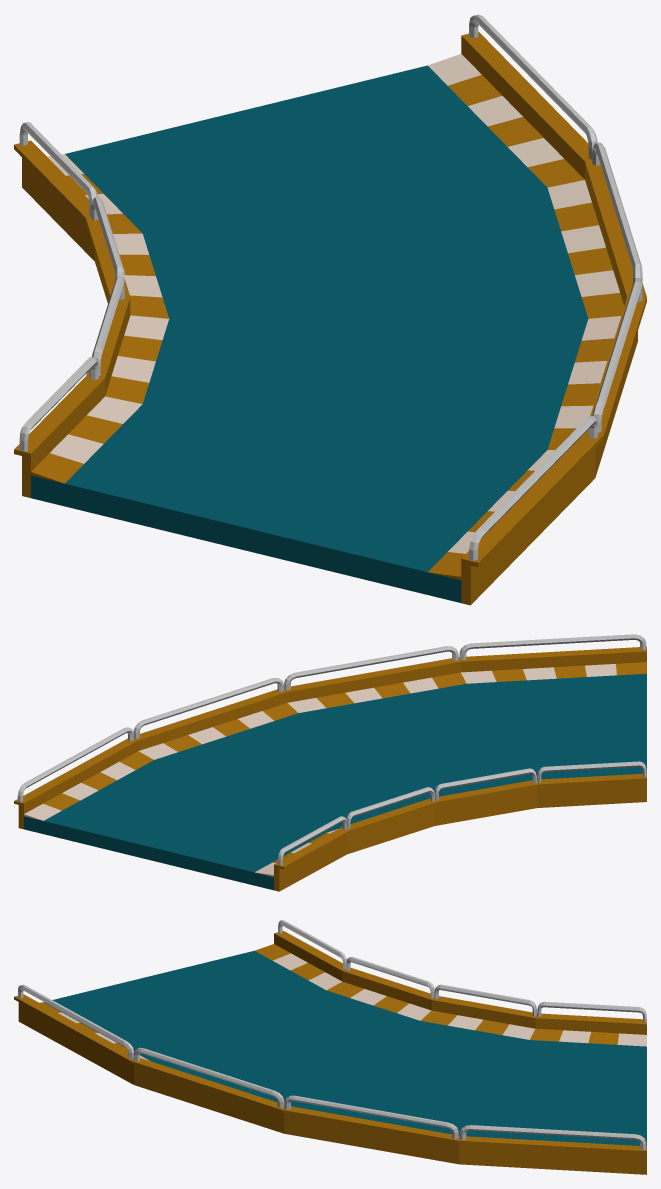
Rendered from curveRight-60_m.FBX.
3 views of the same model, one above another, from view 1: azimuth 30°, elevation 25°; view 2: azimuth 150°, elevation 25°; view 3: azimuth 270°, elevation 25° (orthographic). The views are drawn at different scales.
Visible parts, largest first — view 1: curveRight-60_m, wall_l, curbs_l, wall_r, curbs_r; view 2: curveRight-60_m, wall_l, wall_r, curbs_l; view 3: curveRight-60_m, wall_l, wall_r, curbs_r.
Boxes of the visible parts, <box> form: curveRight-60_m: <box>31,65,588,602</box>; wall_l: <box>461,14,646,605</box>; curbs_l: <box>428,54,624,580</box>; wall_r: <box>14,122,130,497</box>; curbs_r: <box>31,154,169,483</box>; curveRight-60_m: <box>24,673,646,890</box>; wall_l: <box>14,634,646,829</box>; wall_r: <box>274,761,646,891</box>; curbs_l: <box>24,662,646,820</box>; curveRight-60_m: <box>44,950,646,1146</box>; wall_l: <box>14,984,646,1174</box>; wall_r: <box>274,920,646,1034</box>; curbs_r: <box>255,944,646,1046</box>.
Size of what is drawn, in the model's own units: 346 by 29.31 by 420.
